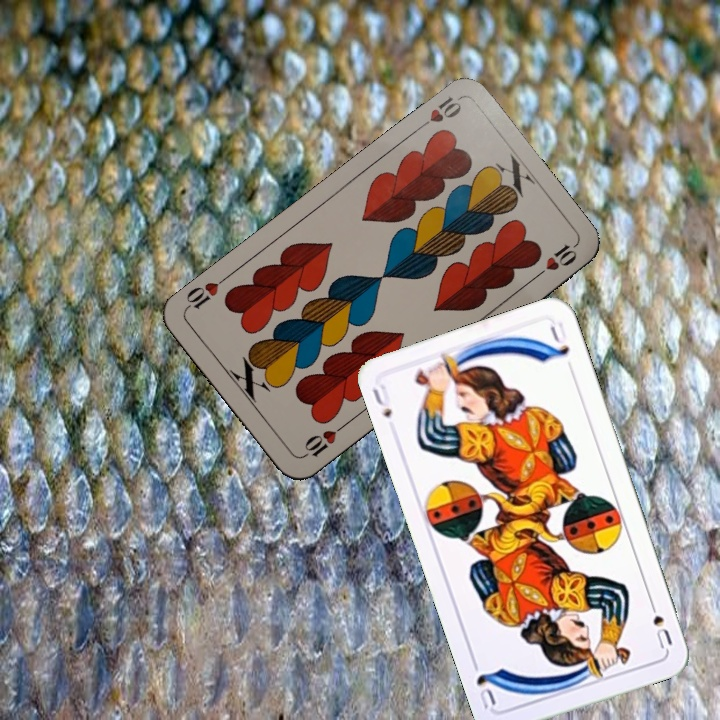H10: (412, 92, 464, 134), (298, 420, 348, 461)
SU: (644, 594, 675, 652), (368, 380, 395, 421)
